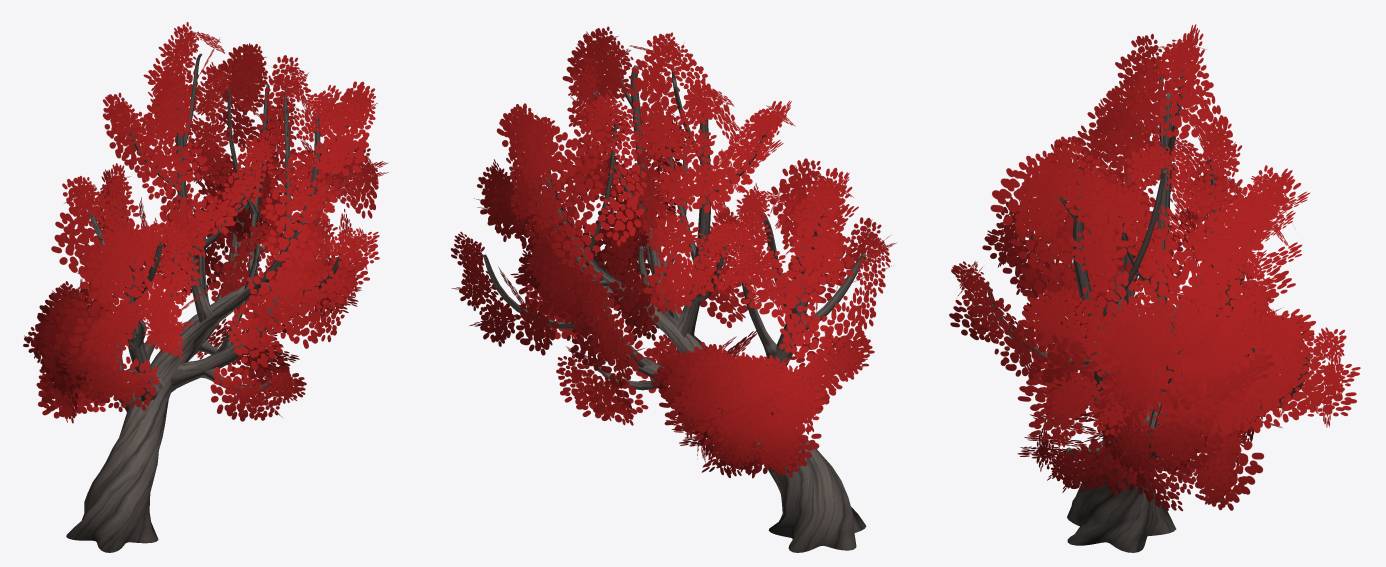
File: landmark-heart-tree.glb
The picture shows the model from 3 angles, left to right: view 1: azimuth 30°, elevation 25°; view 2: azimuth 150°, elevation 25°; view 3: azimuth 270°, elevation 25°; orthographic projection. The views are drawn at different scales.
Visible parts, largest first — view 1: TwistedTree_1; view 2: TwistedTree_1; view 3: TwistedTree_1.
Part boxes in pixels (x1,y1,x2,y2): TwistedTree_1: (23, 22, 388, 552); TwistedTree_1: (451, 26, 896, 552); TwistedTree_1: (949, 24, 1360, 552).
Bounding box in the file's own units: 13.52 × 16.73 × 11.55.
Materials: 2 (2 with a texture image).
